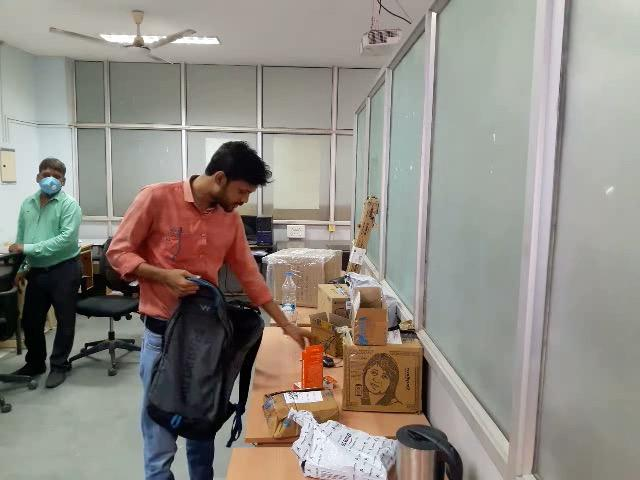shoplifting: (81, 216, 336, 480)
